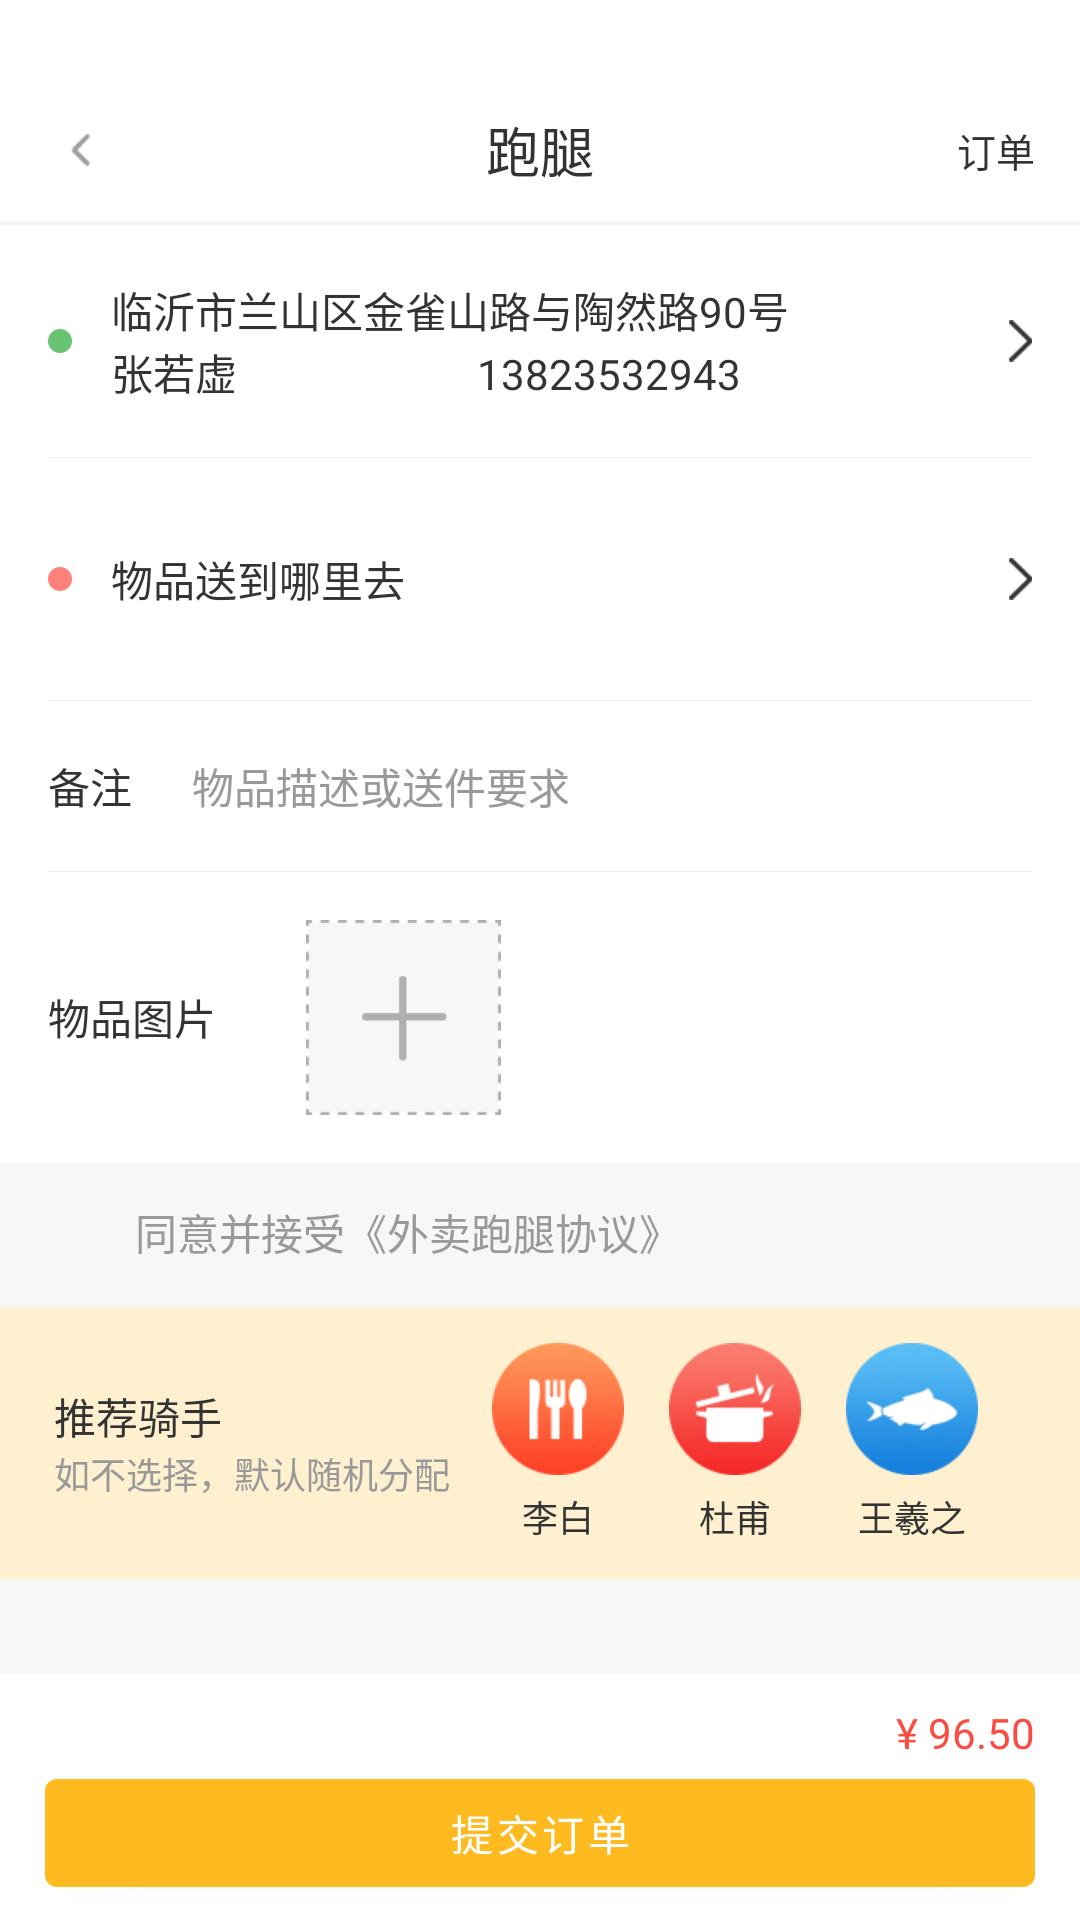

Where to tap for icons on this 1080 × 1920 app screen, as (x,y):
upload: (403,1017)
